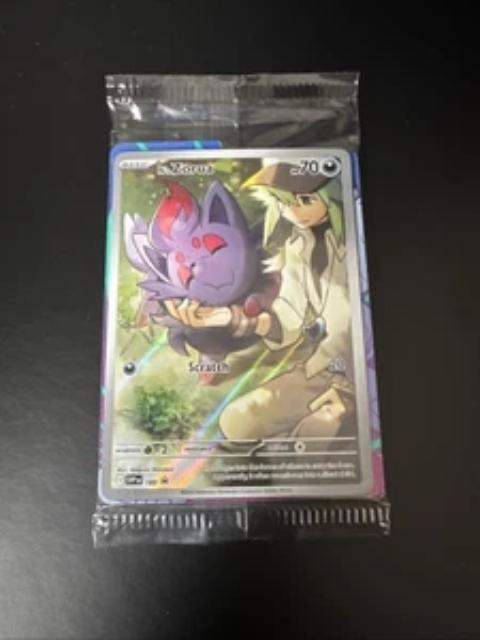Card: (100, 143, 380, 503)
Name: (153, 157, 219, 181)
